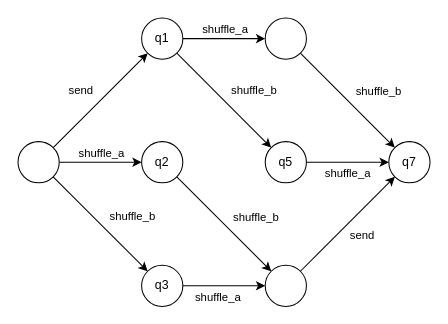
Some shapes in this 448 by 324 pixel diagram are drawn without their labels. Each missing label, with the centre of its shape:
q0: the point at 38,162
q4: the point at 285,38
q6: the point at 285,285
